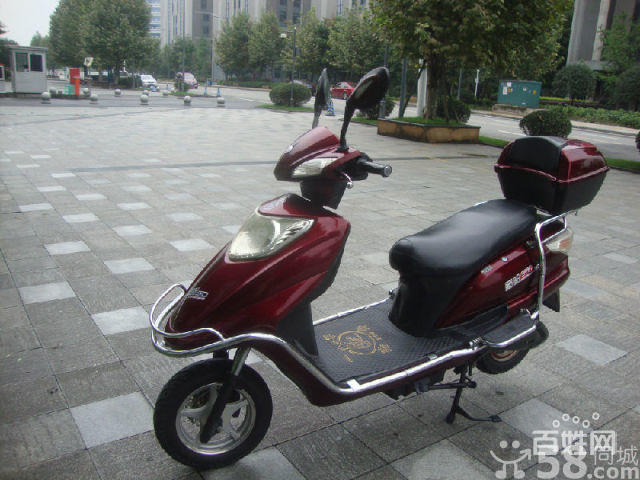电动车: (149, 61, 615, 480)
